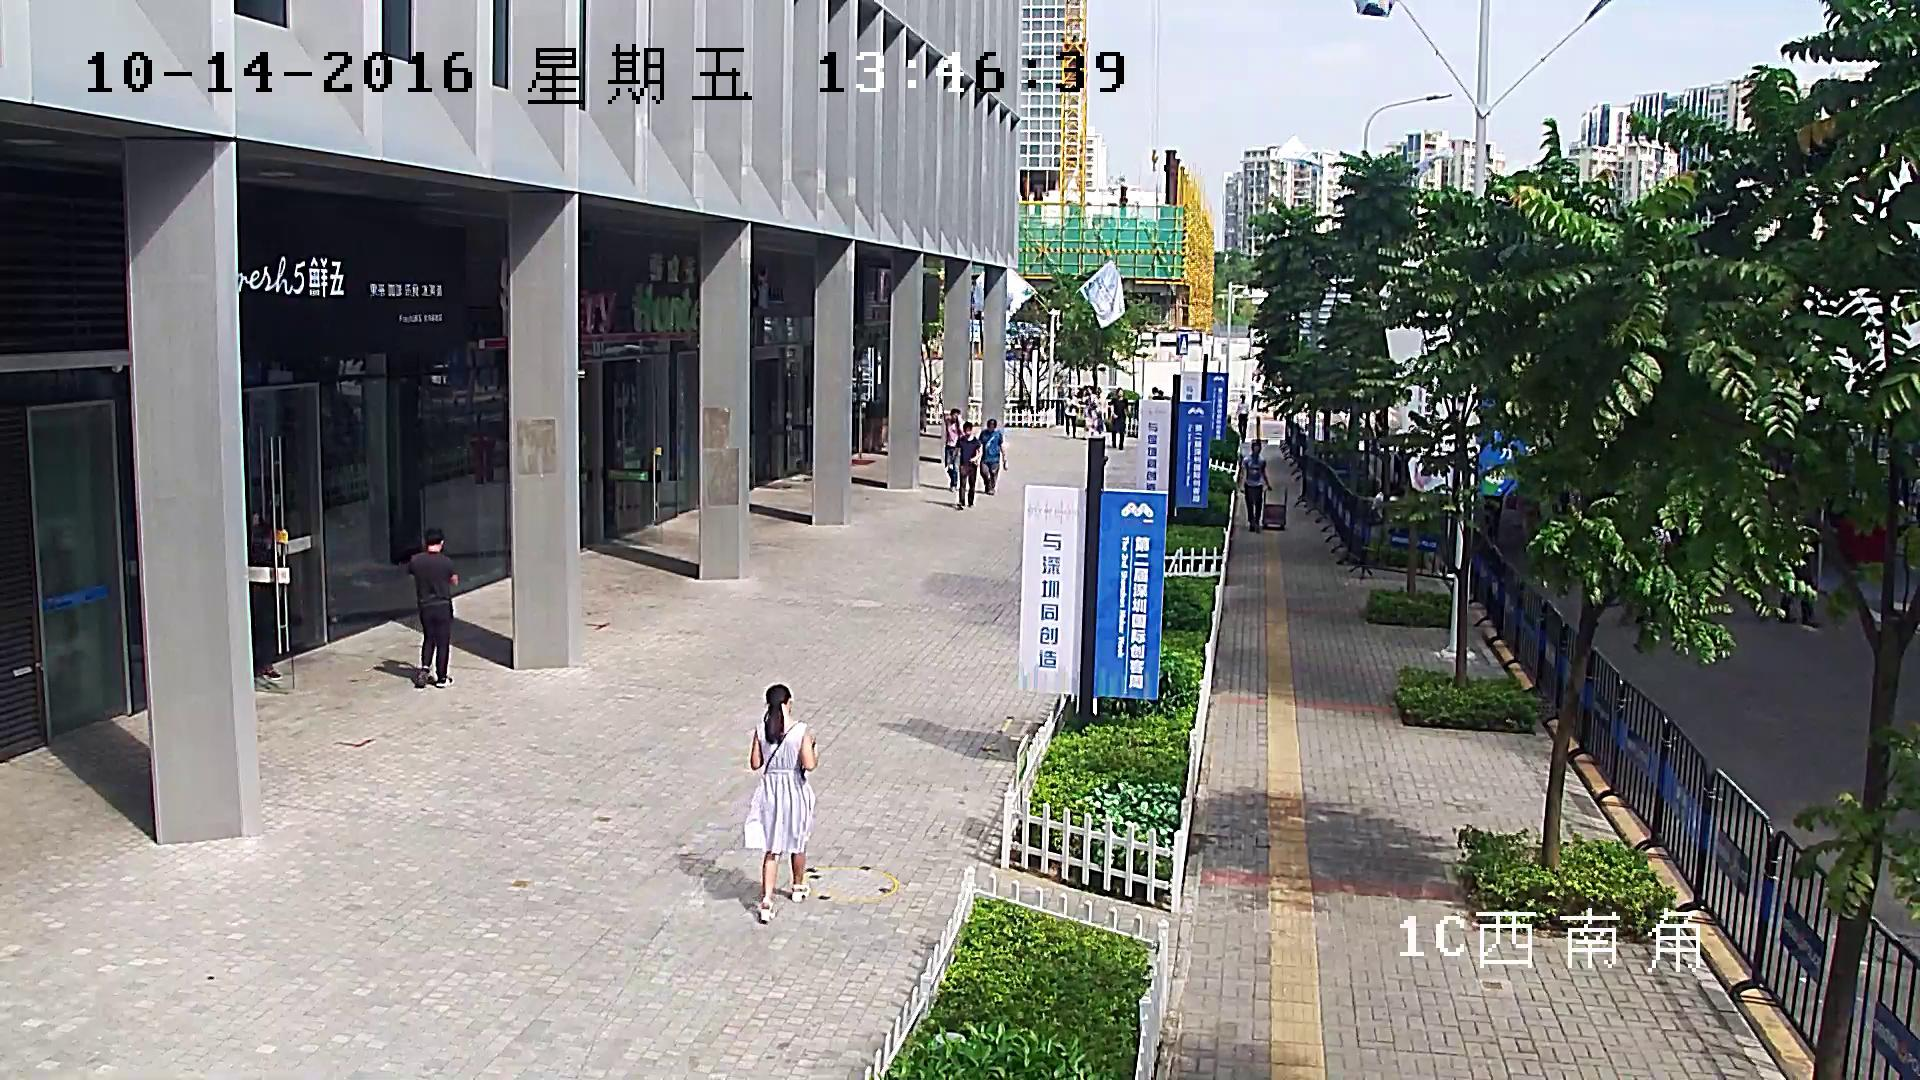person: (750, 685, 819, 921), (407, 527, 457, 687), (248, 518, 283, 683), (1778, 504, 1821, 627), (1240, 440, 1287, 534), (1239, 441, 1273, 534), (951, 421, 981, 511), (978, 419, 1008, 494), (944, 409, 959, 491), (1112, 387, 1129, 450), (1063, 390, 1079, 437), (1084, 385, 1099, 435), (1235, 394, 1249, 441)
